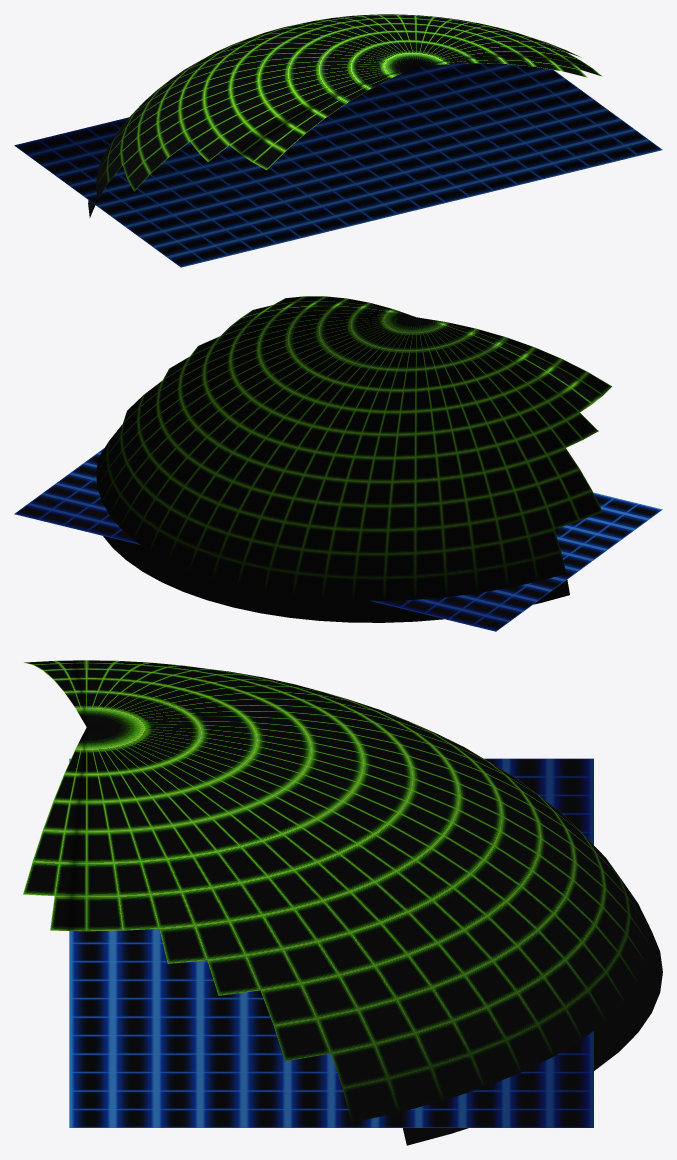
Rendered from mvc2-training.glb.
3 views of the same model, one above another, from view 1: azimuth 30°, elevation 25°; view 2: azimuth 150°, elevation 25°; view 3: azimuth 270°, elevation 25° (orthographic). The views are drawn at different scales.
Parts seen in each view (by area): view 1: Mesh_4; view 2: Mesh_4; view 3: Mesh_4.
Part boxes in pixels (x1,y1,x2,y2): Mesh_4: (14,14,662,267); Mesh_4: (14,296,662,631); Mesh_4: (23,660,662,1145).
Size of the model in its own units: 50 by 15.45 by 37.11.
2 materials, 2 textured.
